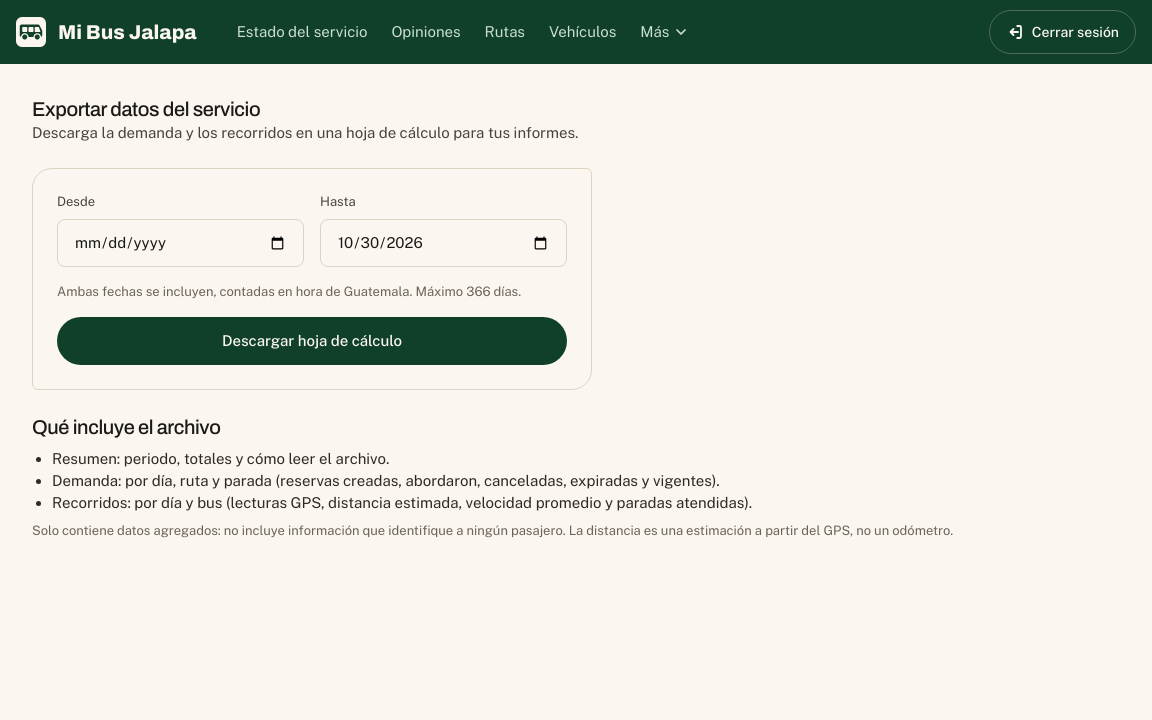
Test: HU-86 · pantalla Exportar datos · selector de fechas (criterio 2) › sin elegir "Desde" no envia y lo dice
Click the button "Descargar hoja de cálculo" at (312, 341), box [57,317,567,365]
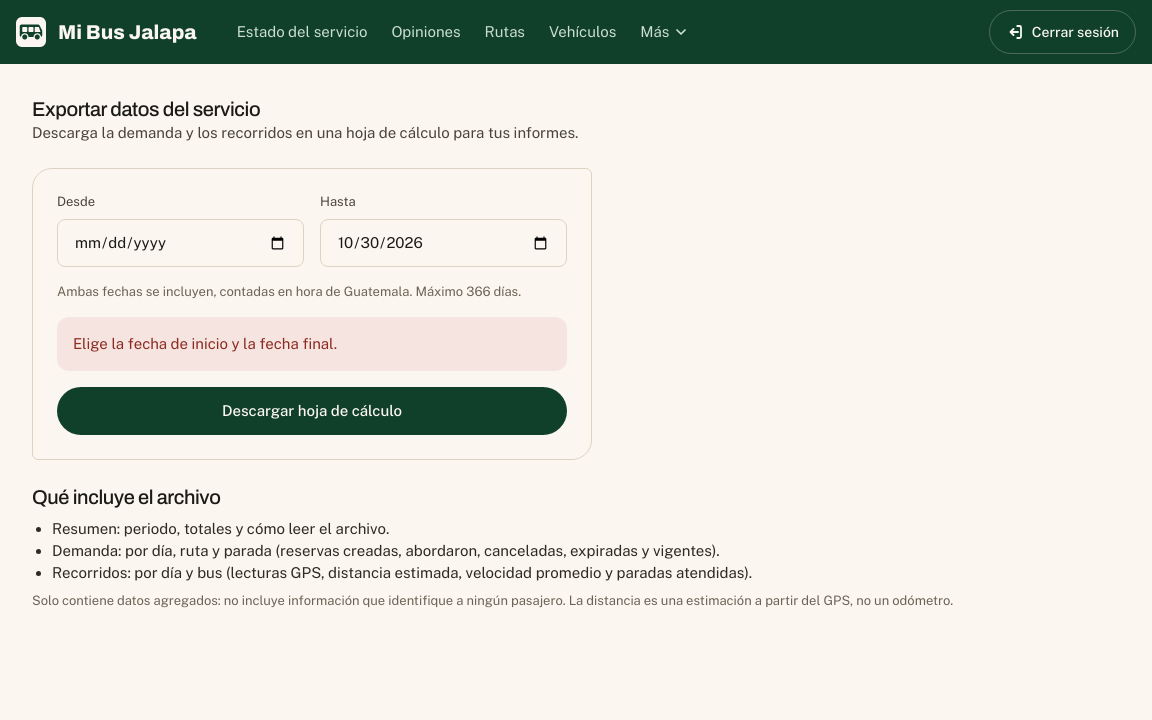
Check: the message reads "Elige la fecha de inicio y la fecha final.", box [73,335,337,352]
